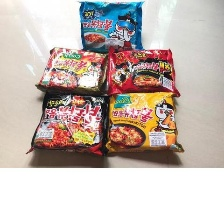snack: (21, 86, 114, 162), (103, 87, 189, 157), (30, 42, 114, 102), (101, 42, 184, 99), (73, 0, 149, 56)
